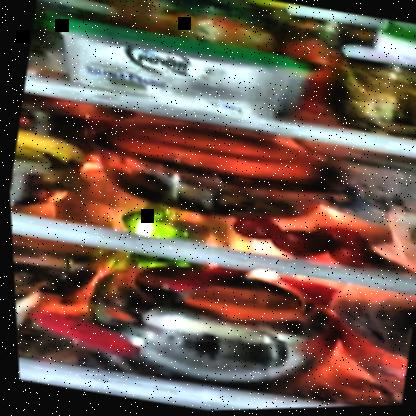banana: (12, 126, 91, 169)
cheese: (45, 10, 317, 131)
tomato: (228, 212, 375, 274)
yoghurt: (354, 15, 415, 67)
